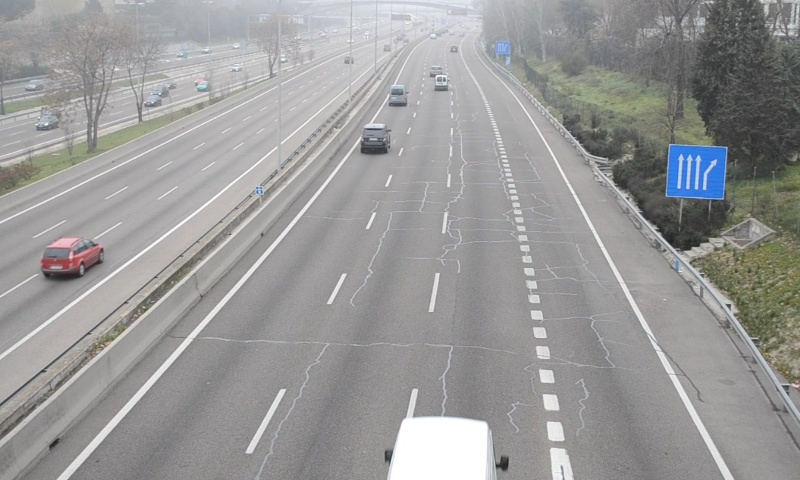car: (360, 122, 391, 152)
van: (389, 84, 406, 105)
